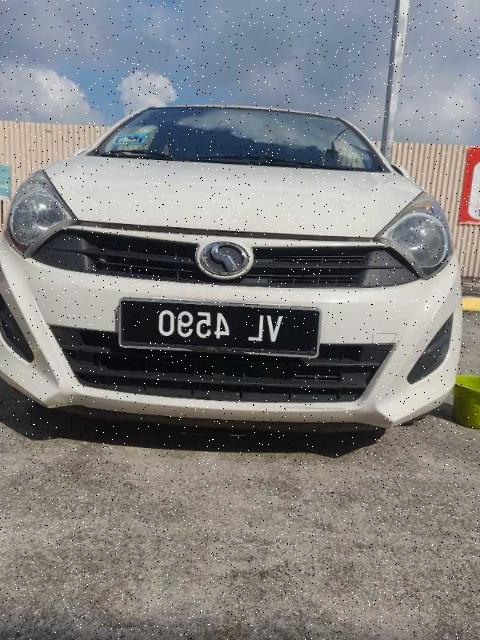License_Plate: (118, 299, 323, 360)
car: (1, 105, 465, 434)
